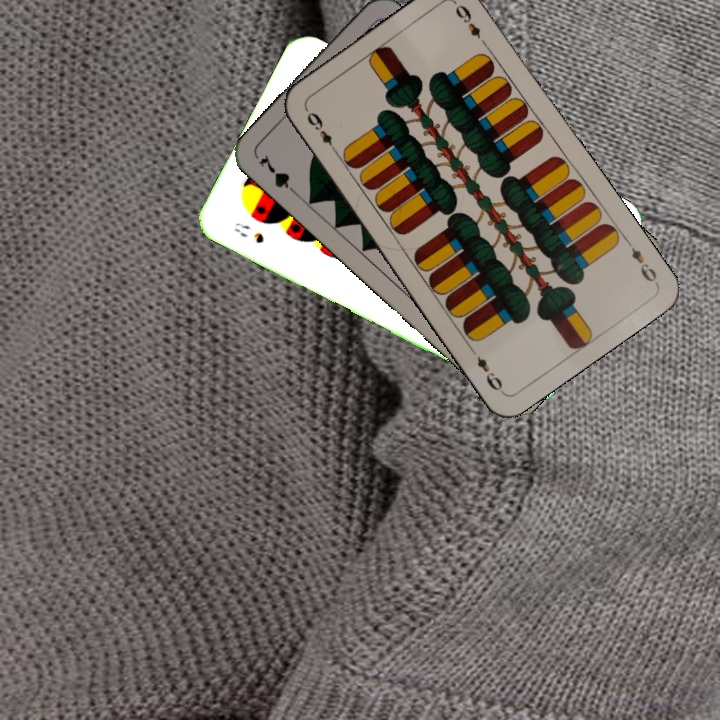E9: (621, 234, 660, 287), (301, 105, 341, 156)
G7: (254, 150, 302, 199)
S8: (230, 218, 267, 246)
